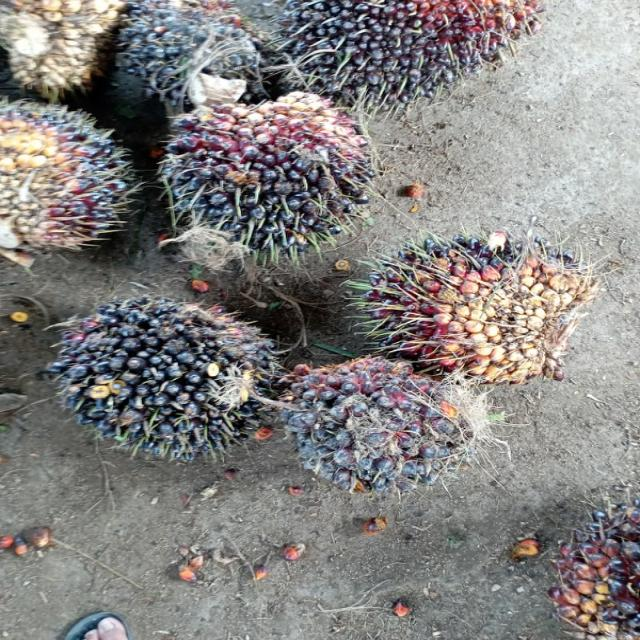fraksi 00: (49, 262, 277, 509)
fraksi 1: (333, 198, 612, 396)
